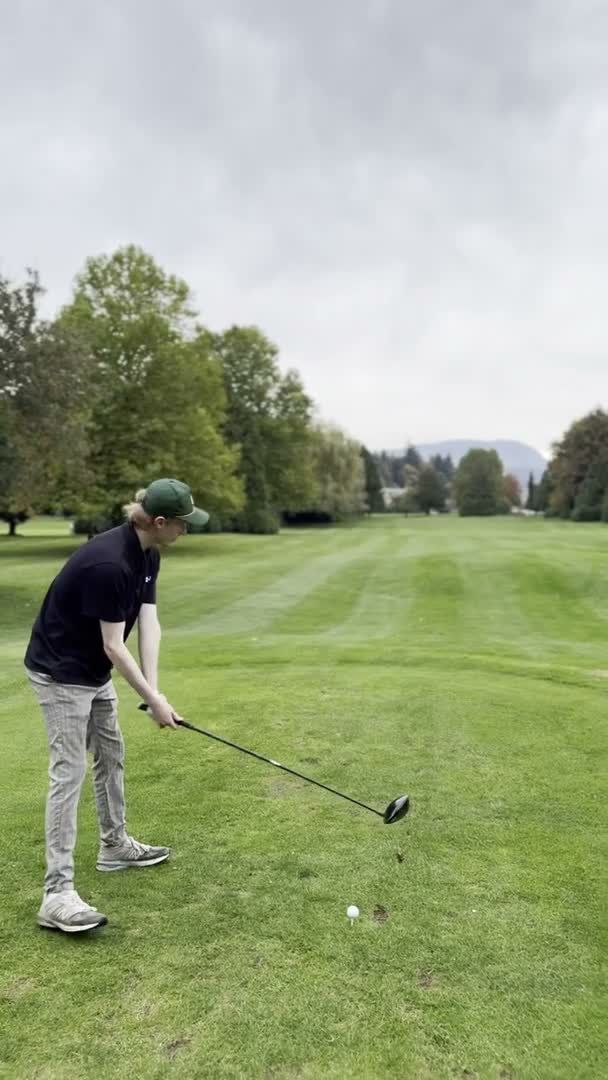Golf Ball: (343, 901, 363, 920)
